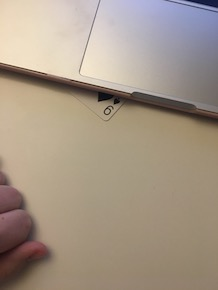NineOfSpades: (46, 82, 132, 122)
